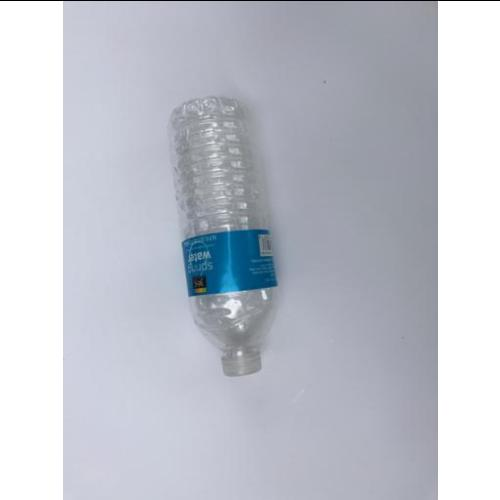plastic: (169, 96, 278, 378)
